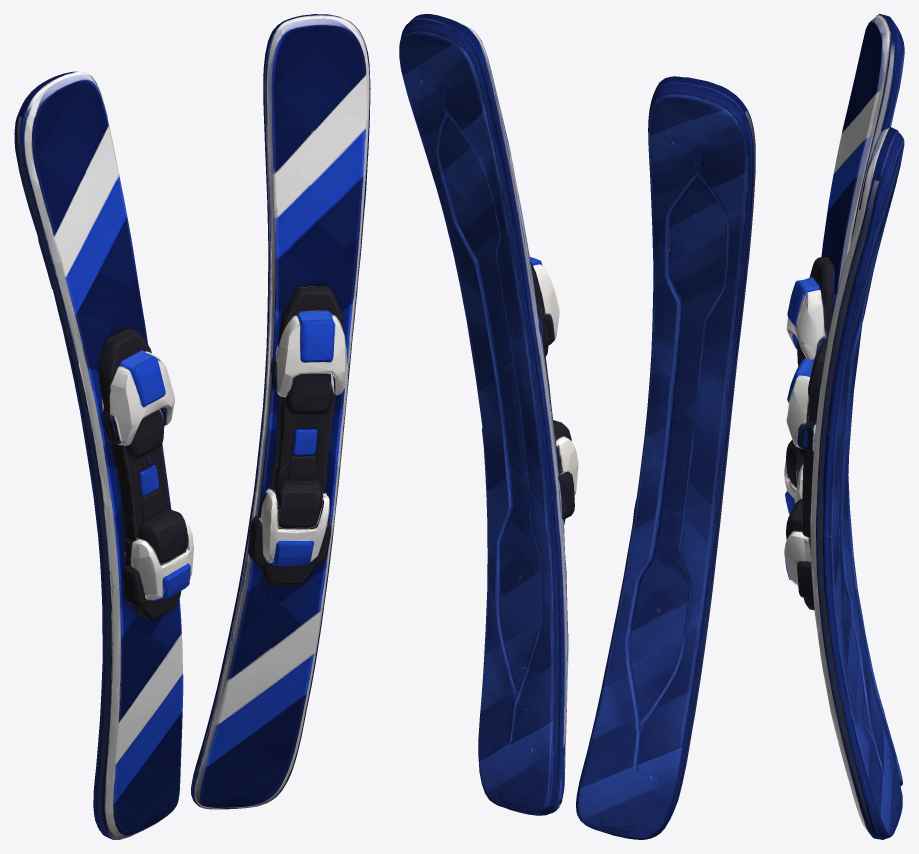
The model's file is skis.glb.
3 views of the same model, side by side, from view 1: azimuth 30°, elevation 25°; view 2: azimuth 150°, elevation 25°; view 3: azimuth 270°, elevation 25° (orthographic). The views are drawn at different scales.
Visible parts, largest first — view 1: right, left; view 2: left, right; view 3: right, left.
Boxes of the visible parts, x1,y1,x2,y2 form: right: (191,14,370,809); left: (14,71,193,839); left: (576,76,755,839); right: (399,14,578,815); right: (784,127,904,839); left: (784,14,904,785).
Size of the model in its own units: 0.9005 by 1.9 by 0.2847.
Materials: 1 (1 with a texture image).
